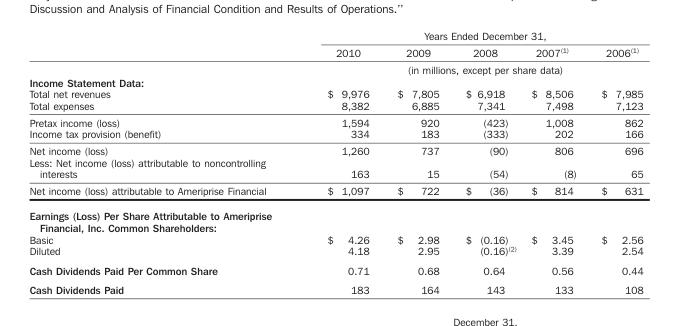table: (28, 29, 642, 295)
table column: (28, 29, 295, 295), (295, 29, 382, 295), (451, 29, 523, 295), (382, 29, 451, 295), (523, 29, 588, 295), (588, 29, 642, 295)
table column header: (28, 29, 642, 75)
table projected row header: (28, 202, 642, 232), (28, 75, 642, 87)
table row: (28, 202, 642, 232), (28, 156, 642, 181), (28, 181, 642, 202), (28, 260, 642, 279), (28, 43, 642, 60), (28, 244, 642, 260), (28, 279, 642, 295), (28, 60, 642, 75), (28, 141, 642, 156), (28, 29, 642, 43), (28, 99, 642, 113), (28, 113, 642, 127), (28, 127, 642, 141), (28, 75, 642, 87), (28, 87, 642, 99), (28, 232, 642, 244)
table spanning cell: (295, 60, 642, 75), (295, 29, 642, 43)
